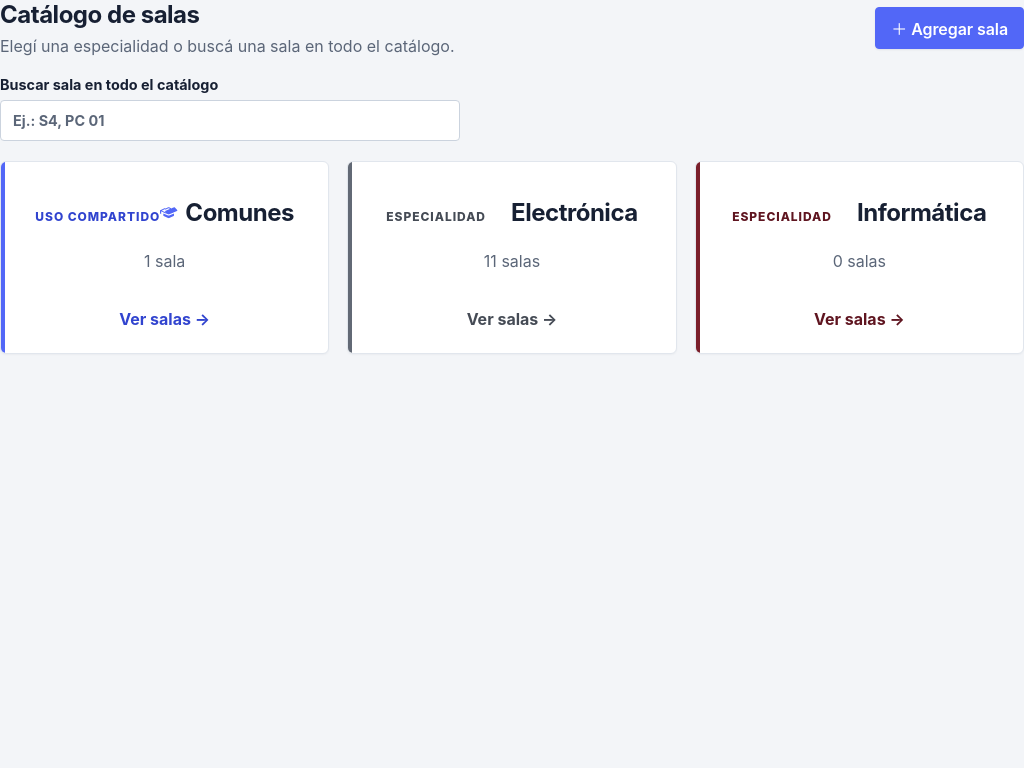
edita una sala existente sin renombrar otras y cierra al guardar
Click the button "Especialidad Electrónica 11 salas Ver salas →" at (512, 258), box left=347, top=161, right=677, bottom=354
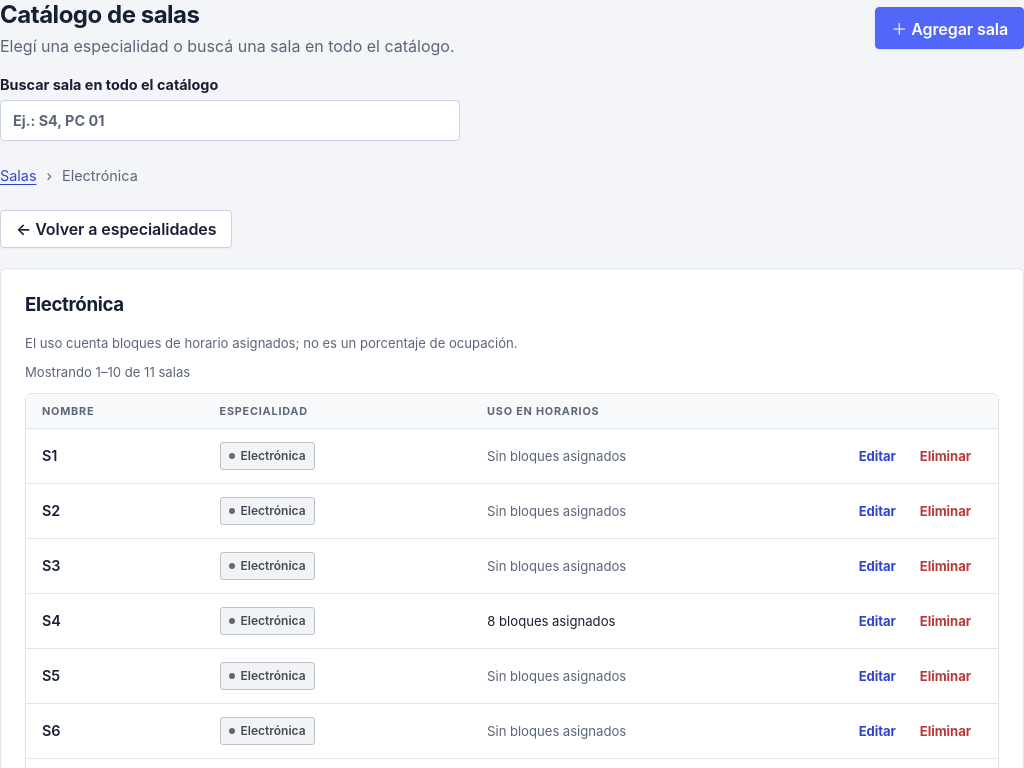
Click the button with aria-label "Editar S1" at (877, 456), box left=848, top=440, right=907, bottom=472
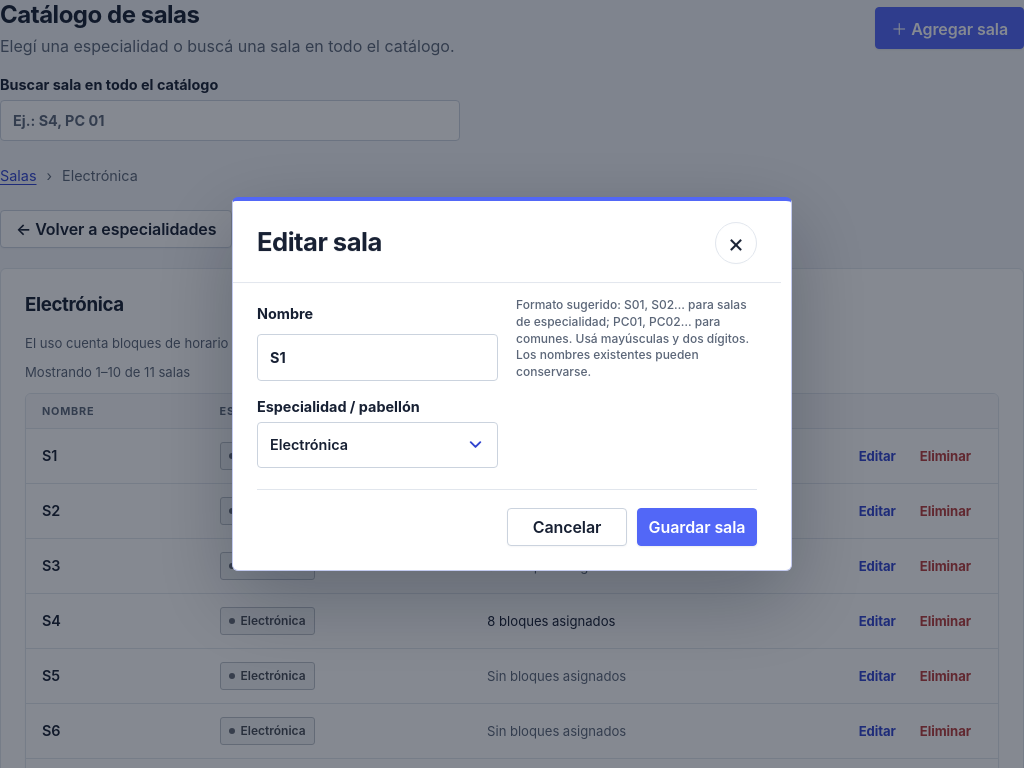
Replace the text in the field labelled "Nombre" with "S01" at (378, 358), box left=257, top=334, right=498, bottom=381
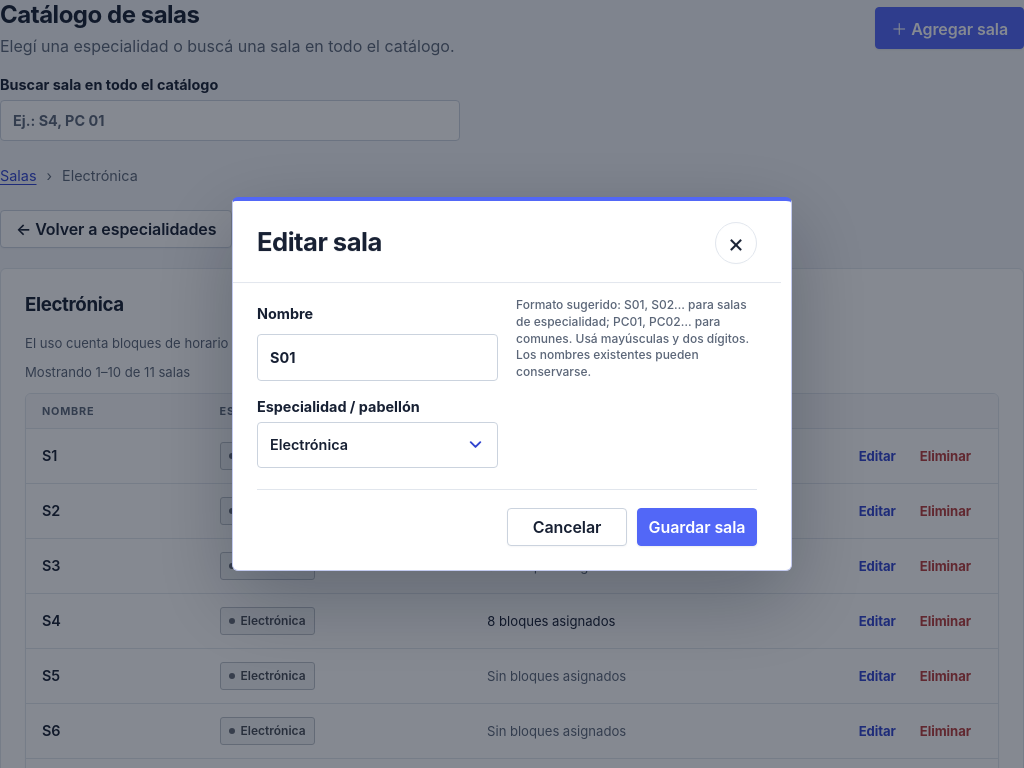
Click the button "Guardar sala" at (697, 527), box left=637, top=508, right=757, bottom=546
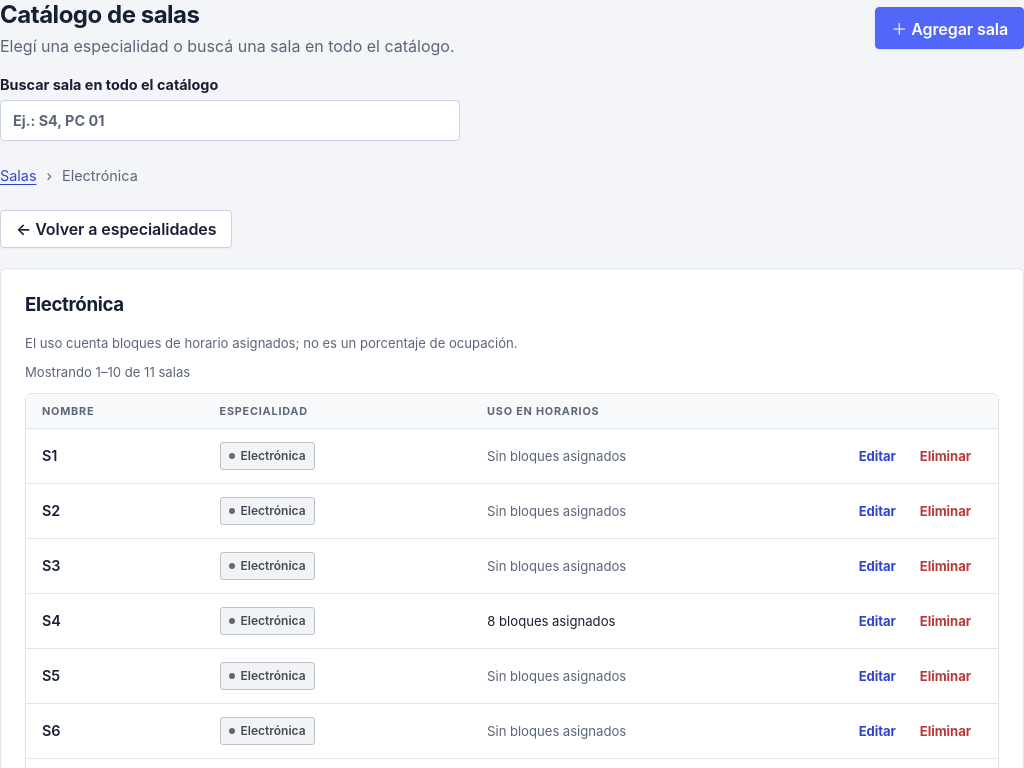
Expected: the dialog is gone
